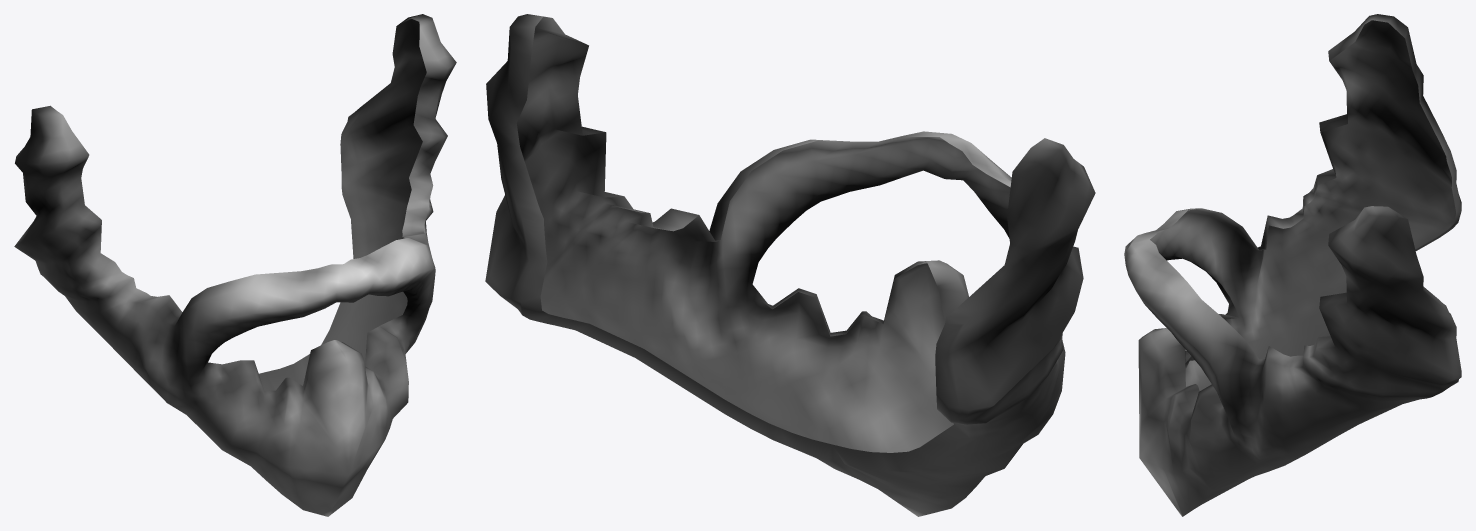
File: beard.glb
The picture shows the model from 3 angles, left to right: view 1: azimuth 30°, elevation 25°; view 2: azimuth 150°, elevation 25°; view 3: azimuth 270°, elevation 25°; orthographic projection. The views are drawn at different scales.
Visible parts, largest first — view 1: Hair_Beard; view 2: Hair_Beard; view 3: Hair_Beard.
Boxes of the visible parts, box(x1,y1,x2,y2) form: Hair_Beard: box(14, 14, 456, 516); Hair_Beard: box(485, 14, 1095, 516); Hair_Beard: box(1124, 14, 1461, 516).
Bounding box in the file's own units: 0.1615 × 0.1382 × 0.1046.
1 material, 1 textured.
